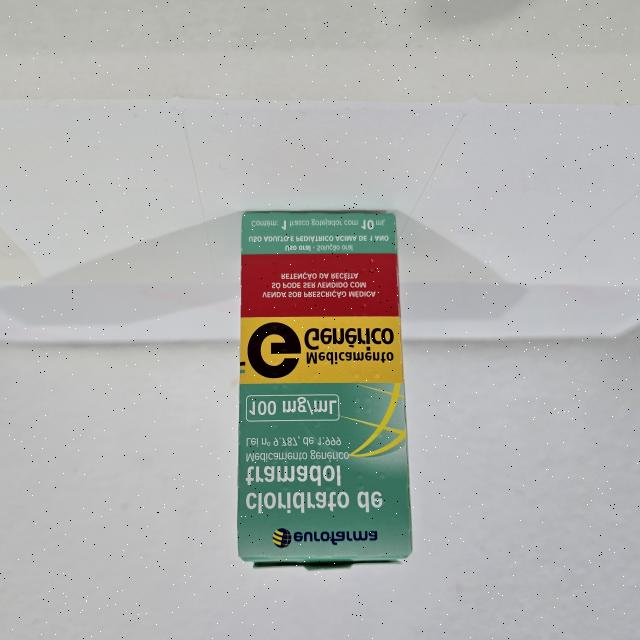tramadol: (232, 203, 416, 578)
